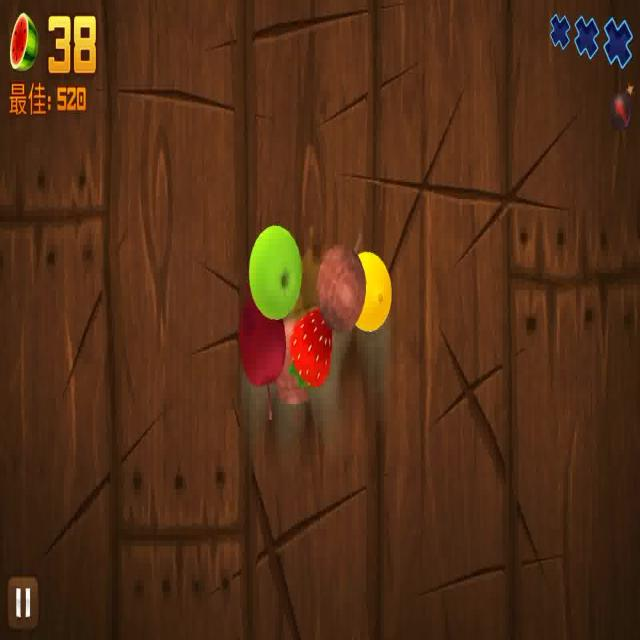fruit: (248, 225, 300, 318), (238, 296, 285, 384), (317, 245, 366, 328), (278, 312, 318, 408), (355, 250, 394, 336), (291, 308, 332, 387)
